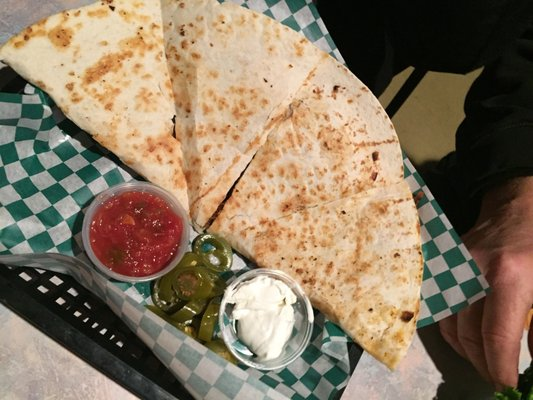sushi: (80, 183, 190, 283), (218, 268, 315, 371)
